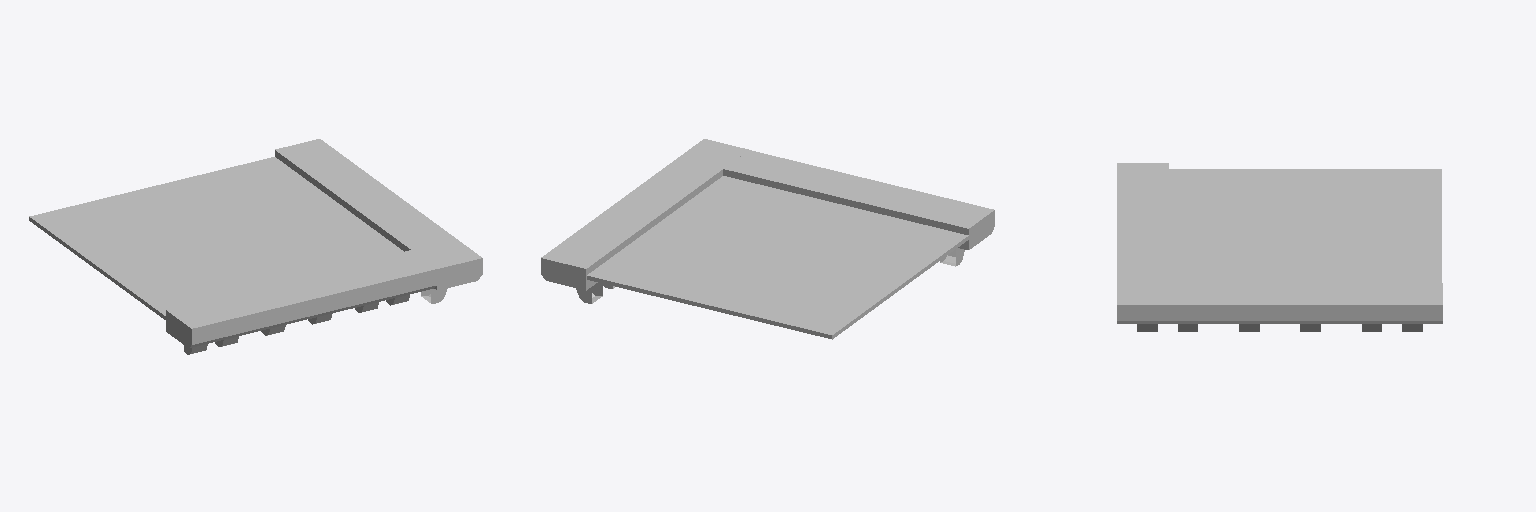
The model's file is NY_roof3.obj.
3 views of the same model, side by side, from view 1: azimuth 30°, elevation 25°; view 2: azimuth 150°, elevation 25°; view 3: azimuth 270°, elevation 25° (orthographic).
Visible parts, largest first — view 1: LEDGE_01_DEF.obj; view 2: LEDGE_01_DEF.obj; view 3: LEDGE_01_DEF.obj.
Boxes of the visible parts, <box> form: LEDGE_01_DEF.obj: <box>29,139,482,354</box>; LEDGE_01_DEF.obj: <box>541,139,994,339</box>; LEDGE_01_DEF.obj: <box>1117,163,1442,331</box>.
Size of the model in its own units: 3.52 by 0.5124 by 3.41.